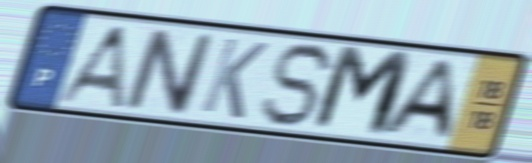A: (50, 21, 132, 112), (374, 58, 456, 144)
K: (196, 34, 273, 123)
M: (307, 42, 419, 142)
N: (121, 25, 217, 118)
S: (256, 40, 343, 130)
